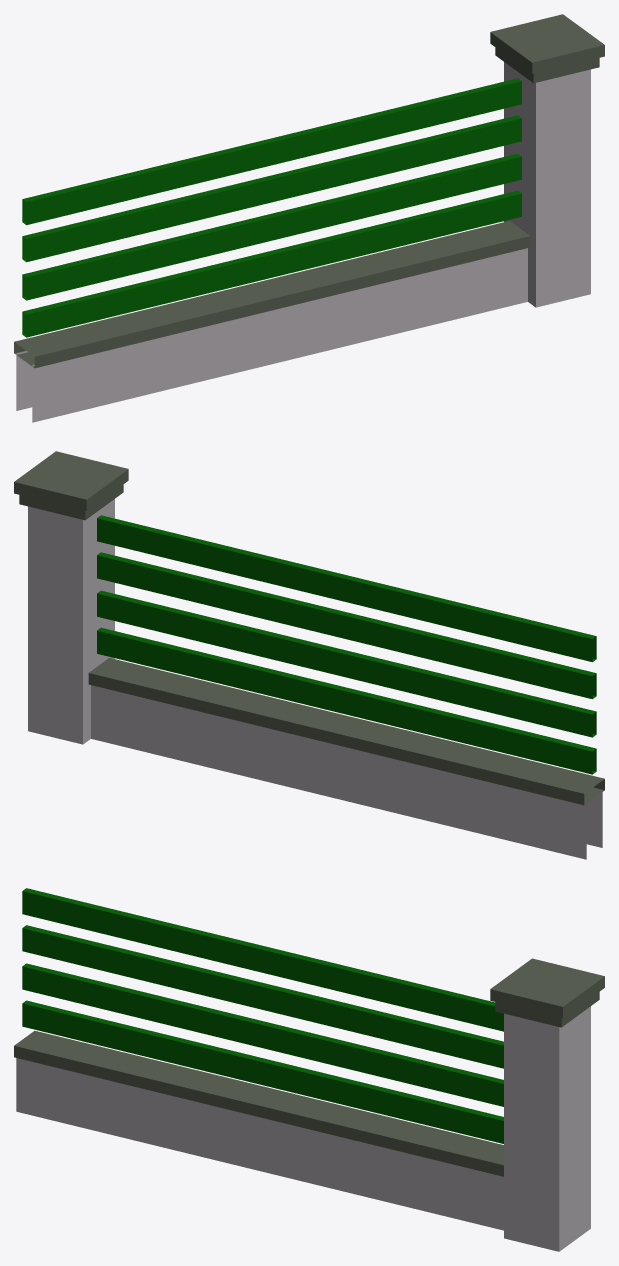
The model's file is fences.fbx.
The picture shows the model from 3 angles, top to bottom: view 1: azimuth 30°, elevation 25°; view 2: azimuth 150°, elevation 25°; view 3: azimuth 330°, elevation 25°; orthographic projection.
Parts seen in each view (by area): view 1: Fences; view 2: Fences; view 3: Fences.
Part boxes in pixels (x1,y1,x2,y2): Fences: (14, 14, 604, 422); Fences: (14, 451, 604, 859); Fences: (14, 888, 604, 1251).
Bounding box in the file's own units: 508 × 217 × 66.
